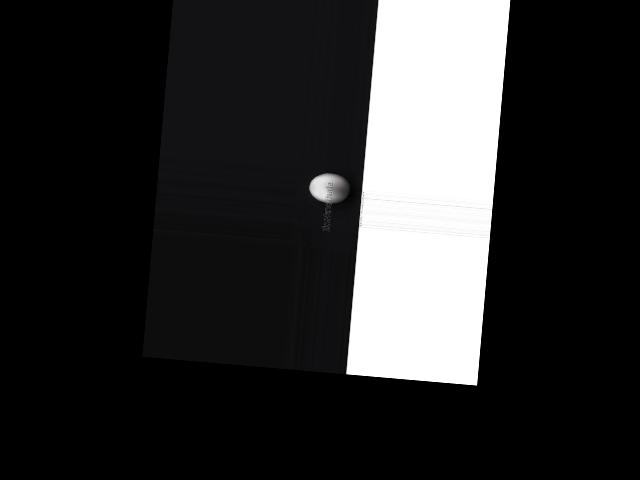egg: (307, 171, 351, 204)
